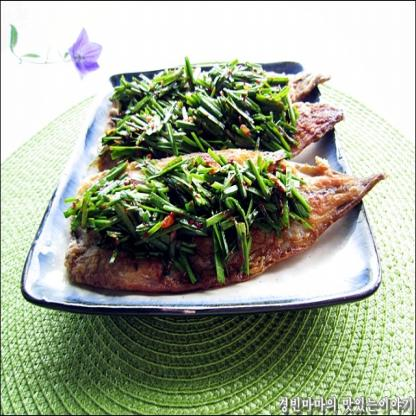Peixe: (67, 163, 404, 305)
